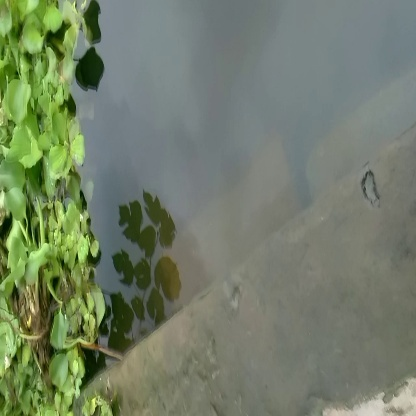grass: (5, 9, 99, 179)
